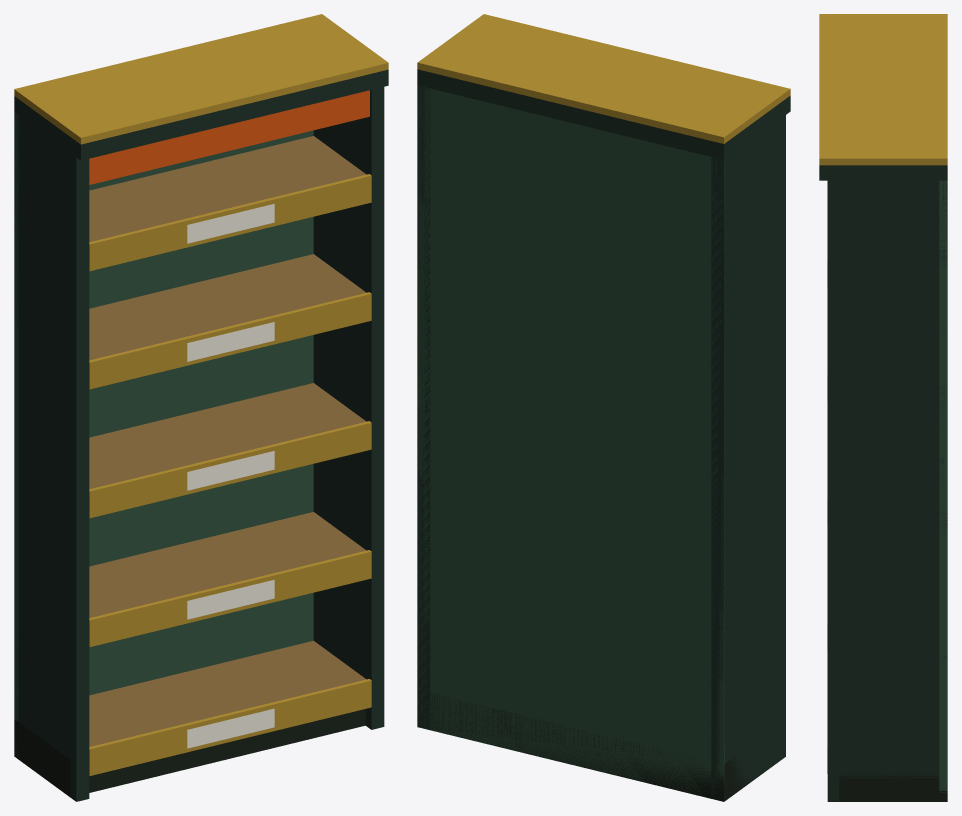
Rendered from liquor-shelf-bay.glb.
3 renders of one model, left to right at view 1: azimuth 30°, elevation 25°; view 2: azimuth 150°, elevation 25°; view 3: azimuth 270°, elevation 25°, orthographic. The views are drawn at different scales.
Visible parts, largest first — view 1: back_panel, upright_left, upright_right, top_cap_lip, shelf_board_4, shelf_board_1, shelf_board_2, shelf_board_3, shelf_board_5, valance, kick_plinth, shelf_fascia_2 (+10 smaller); view 2: back_panel, upright_left, top_cap_lip, kick_plinth, upright_right, top_cap; view 3: upright_right, top_cap_lip, back_panel, kick_plinth, top_cap.
Boxes of the visible parts, x1,y1,x2,y2 form: back_panel: (14, 112, 313, 758); upright_left: (14, 113, 89, 801); upright_right: (313, 87, 384, 729); top_cap_lip: (14, 14, 388, 144); shelf_board_4: (89, 254, 366, 360); shelf_board_1: (89, 640, 366, 746); shelf_board_2: (89, 512, 366, 617); shelf_board_3: (89, 383, 365, 489); shelf_board_5: (89, 136, 366, 242); valance: (89, 90, 369, 184); kick_plinth: (14, 709, 365, 797); shelf_fascia_2: (89, 550, 371, 647); back_panel: (417, 86, 725, 796); upright_left: (711, 115, 785, 798); top_cap_lip: (417, 14, 790, 143); kick_plinth: (417, 691, 763, 801); upright_right: (417, 85, 430, 729); top_cap: (417, 69, 790, 159); upright_right: (827, 180, 947, 801); top_cap_lip: (819, 14, 947, 165); back_panel: (939, 180, 947, 792); kick_plinth: (839, 773, 947, 801); top_cap: (819, 165, 947, 180).
Size of the model in its own units: 1.2 by 2.49 by 0.45.
